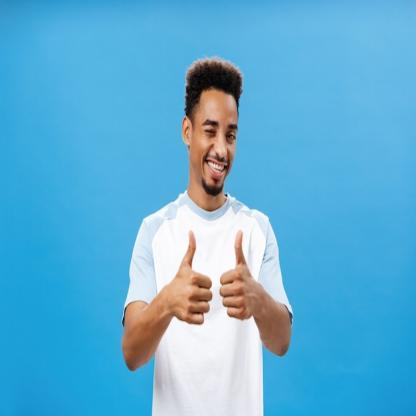thumb_up: (167, 228, 214, 328), (218, 226, 260, 326)
